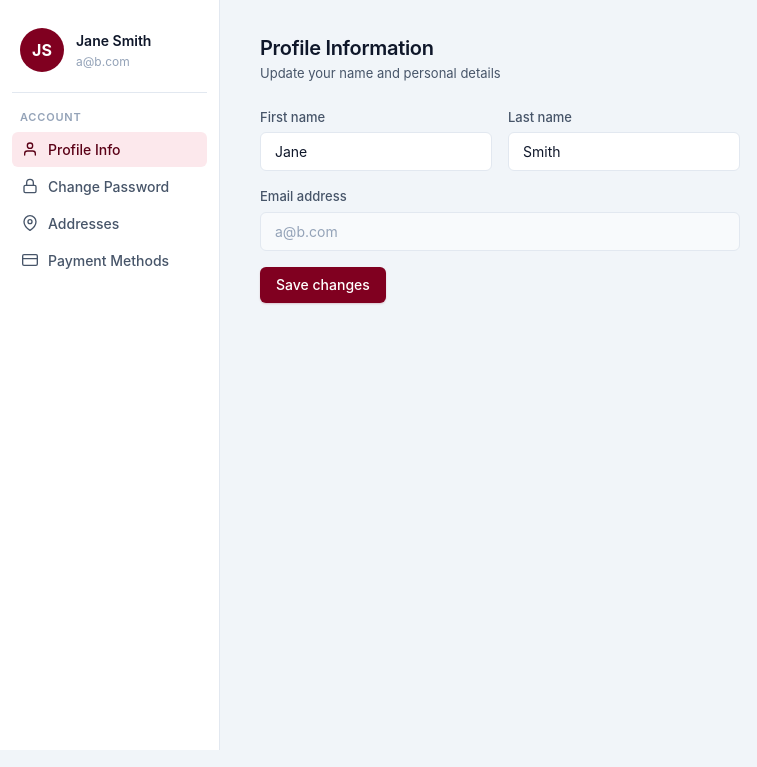
Profile page › ProfileInfoTab › shows server error when PUT /auth/me fails
The width and height of the screenshot is (757, 767).
Click the button "Save changes" at (323, 284), box [260, 266, 386, 302]
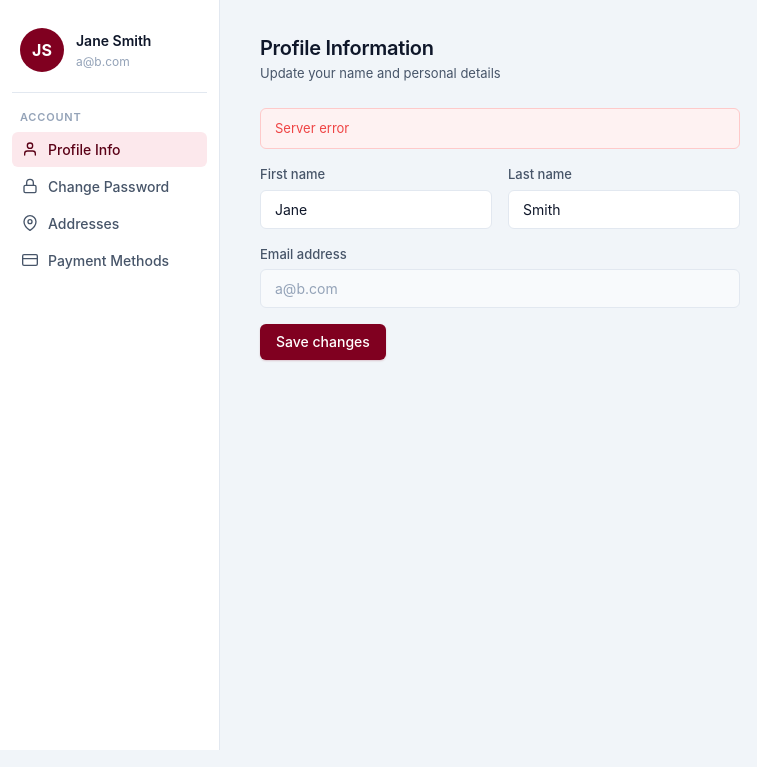
Result: the text "Server error" is shown at [260, 108, 740, 149]
